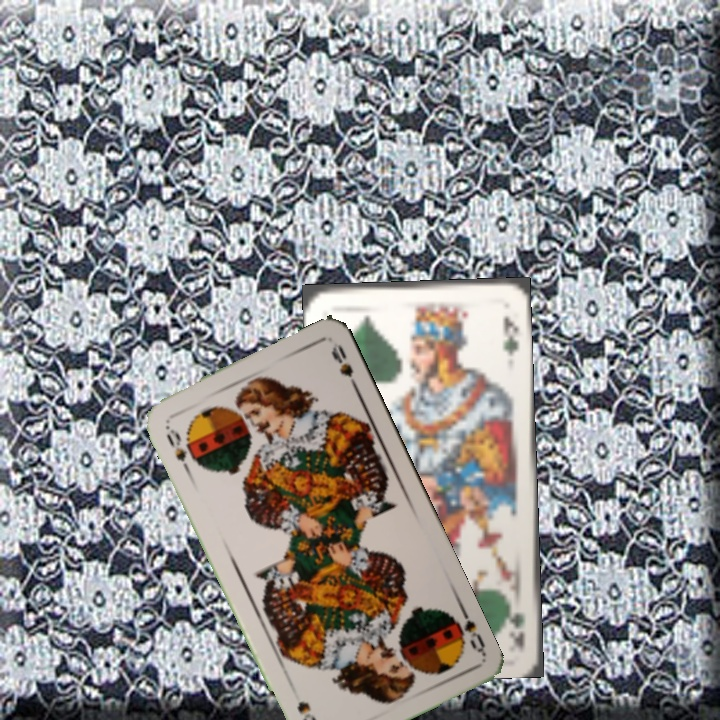GK: (506, 595, 528, 651)
SO: (444, 601, 488, 657), (161, 421, 197, 475)
